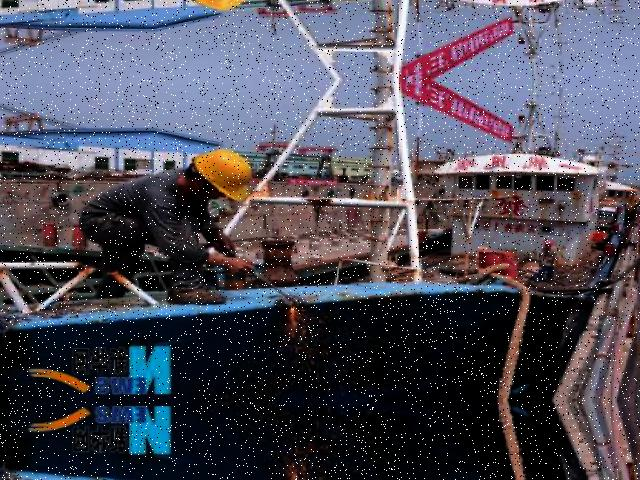Helmet: (188, 144, 260, 206)
